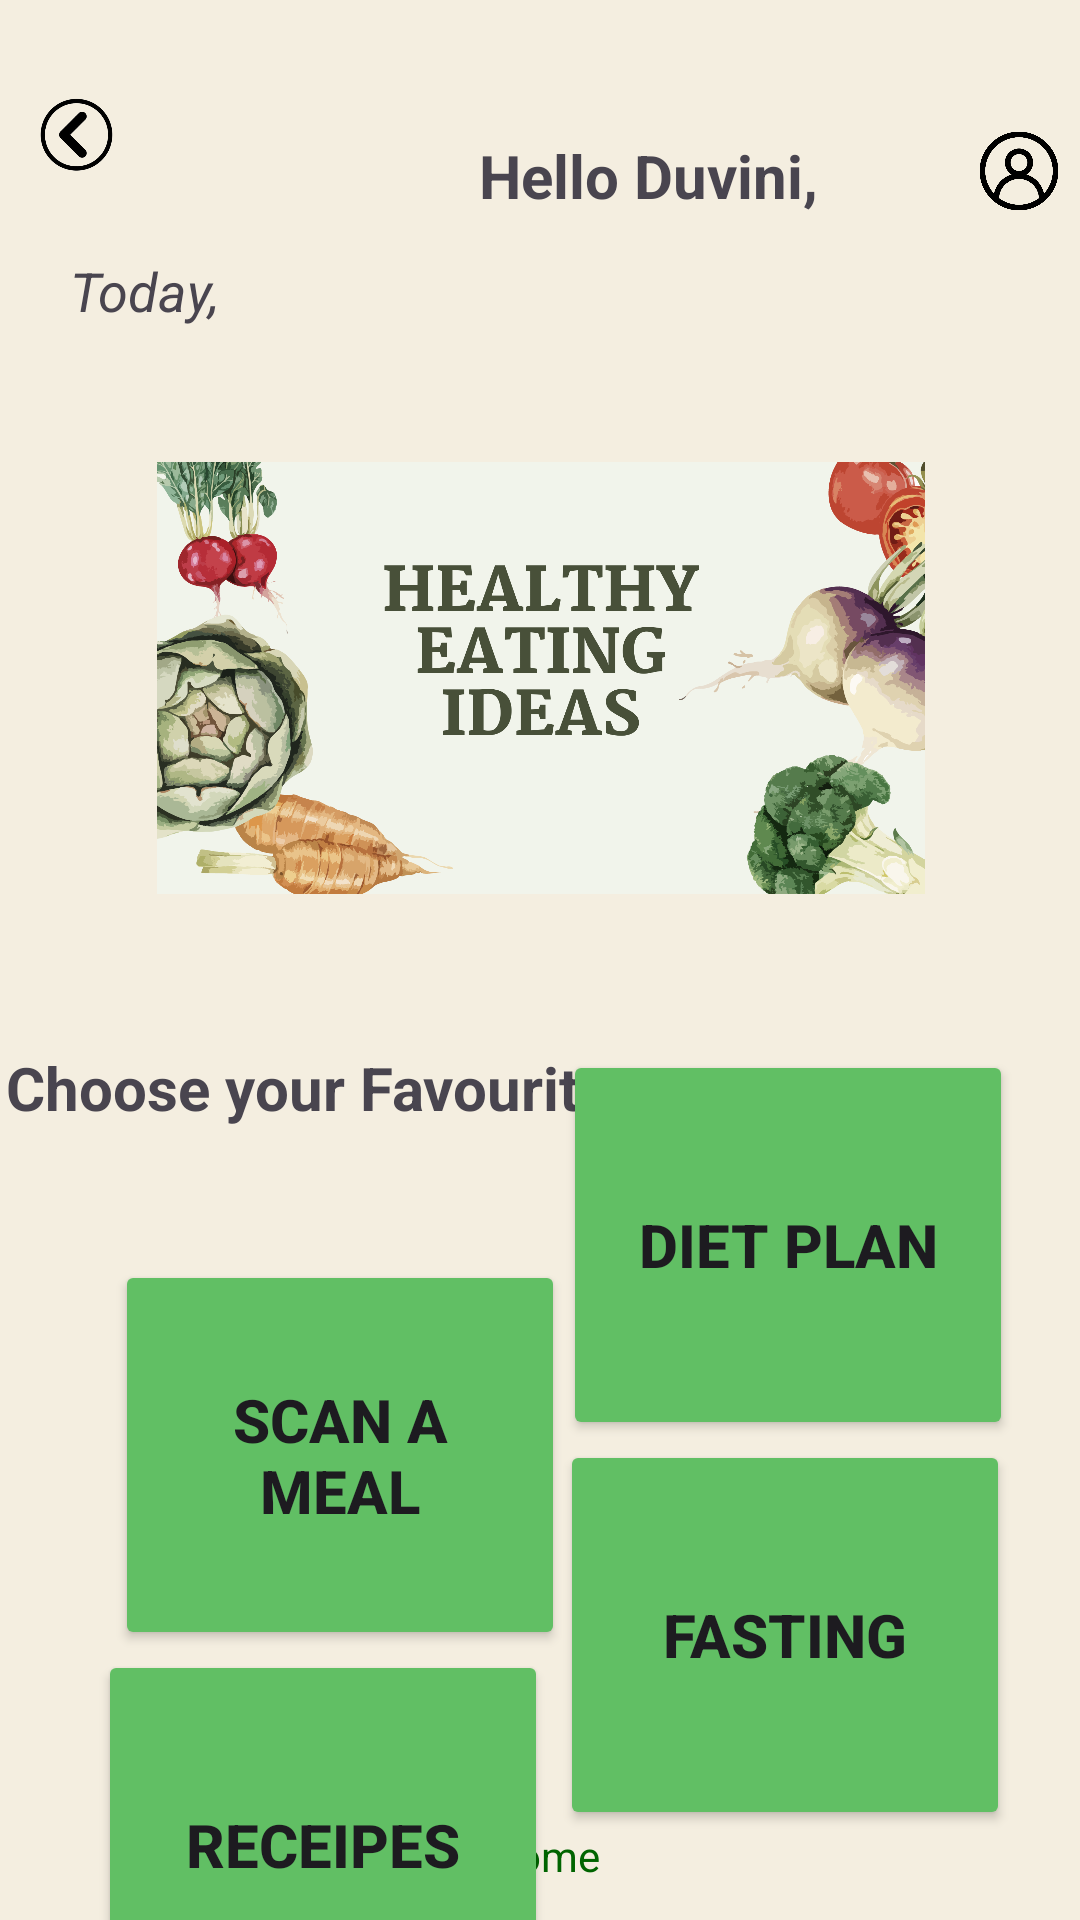

Point at icon controls on the screen. Image size 1080px x 1920px, points as [x,y].
backb: [76,135]
